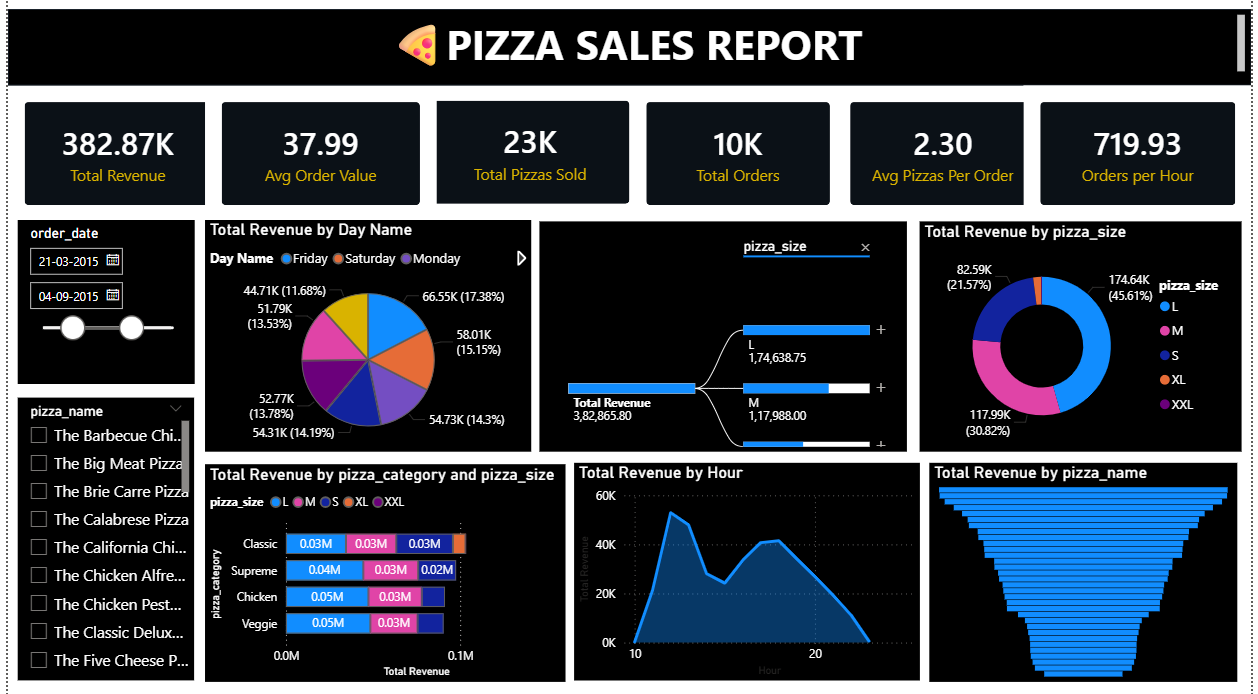

This screenshot's page, from the dashboard's own definition file:
{"tool":"powerbi","page":{"name":"Page 1","canvas":[1280,720],"ordinal":0},"visuals":[{"type":"cardVisual","fields":{"Data":["pizza_sales.Total Revenue"]},"box":[0,90,226.7,140],"z":0},{"type":"cardVisual","fields":{"Data":["pizza_sales.Total Orders"]},"box":[640,90,223.3,140],"z":1000},{"type":"cardVisual","fields":{"Data":["pizza_sales.Total Pizzas Sold"]},"box":[418.3,88.3,238.3,140],"z":2000},{"type":"cardVisual","fields":{"Data":["pizza_sales.Avg Order Value"]},"box":[203.3,90,238.3,140],"z":3000},{"type":"cardVisual","fields":{"Data":["pizza_sales.Avg Pizzas Per Order"]},"box":[850,90,225,140],"z":4000},{"type":"textbox","box":[0,11.7,1280,78.3],"z":5000},{"type":"cardVisual","fields":{"Data":["pizza_sales.Orders per Hour"]},"box":[1045,90,235,140],"z":6000},{"type":"pieChart","fields":{"Y":["pizza_sales.Total Revenue"],"Category":["pizza_sales.Day Name"]},"box":[202.9,228.6,335.7,238.6],"z":7000},{"type":"decompositionTreeVisual","fields":{"Analyze":["pizza_sales.Total Revenue"],"ExplainBy":["pizza_sales.pizza_size","pizza_sales.pizza_category","pizza_sales.Day Name"]},"box":[547.1,230,378.6,237.1],"z":8000},{"type":"barChart","fields":{"Category":["pizza_sales.pizza_category"],"Y":["pizza_sales.Total Revenue"],"Series":["pizza_sales.pizza_size"]},"box":[202.9,480,371.4,224.3],"z":9000},{"type":"areaChart","fields":{"Category":["pizza_sales.Hour"],"Y":["pizza_sales.Total Revenue"]},"box":[582.9,478.6,355.7,224.3],"z":10000},{"type":"donutChart","fields":{"Y":["pizza_sales.Total Revenue"],"Category":["pizza_sales.pizza_size"]},"box":[938.6,230,331.4,237.1],"z":11000},{"type":"funnel","fields":{"Category":["pizza_sales.pizza_name"],"Y":["pizza_sales.Total Revenue"]},"box":[948.6,478.6,317.1,225.7],"z":12000},{"type":"slicer","fields":{"Values":["pizza_sales.order_date"]},"box":[10,228.6,181.4,168.6],"z":13000},{"type":"slicer","fields":{"Values":["pizza_sales.pizza_name"]},"box":[10,411.4,181.4,291.4],"z":14000}]}

Visuals, with their boxes in screenshot pixels (x1, y1, x2, y2), scaled from the page's 1280x720 canvas onto the 1258x694 screenshot:
cardVisual - pizza_sales.Total Revenue: locate(0, 87, 223, 222)
cardVisual - pizza_sales.Total Orders: locate(629, 87, 848, 222)
cardVisual - pizza_sales.Total Pizzas Sold: locate(411, 85, 645, 220)
cardVisual - pizza_sales.Avg Order Value: locate(200, 87, 434, 222)
cardVisual - pizza_sales.Avg Pizzas Per Order: locate(835, 87, 1057, 222)
textbox: locate(0, 11, 1257, 87)
cardVisual - pizza_sales.Orders per Hour: locate(1027, 87, 1257, 222)
pieChart - pizza_sales.Total Revenue x pizza_sales.Day Name: locate(199, 220, 529, 450)
decompositionTreeVisual - pizza_sales.Total Revenue x pizza_sales.pizza_size: locate(538, 222, 910, 450)
barChart - pizza_sales.pizza_category x pizza_sales.Total Revenue: locate(199, 463, 564, 679)
areaChart - pizza_sales.Hour x pizza_sales.Total Revenue: locate(573, 461, 922, 678)
donutChart - pizza_sales.Total Revenue x pizza_sales.pizza_size: locate(922, 222, 1248, 450)
funnel - pizza_sales.pizza_name x pizza_sales.Total Revenue: locate(932, 461, 1244, 679)
slicer - pizza_sales.order_date: locate(10, 220, 188, 383)
slicer - pizza_sales.pizza_name: locate(10, 397, 188, 677)
